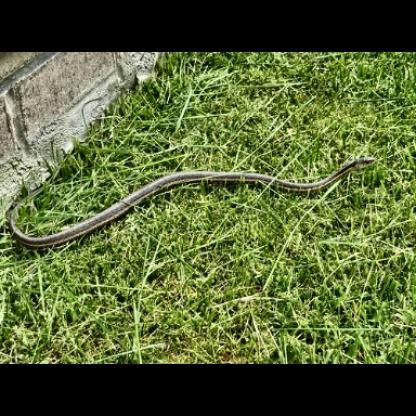Snake: (6, 154, 376, 238)
